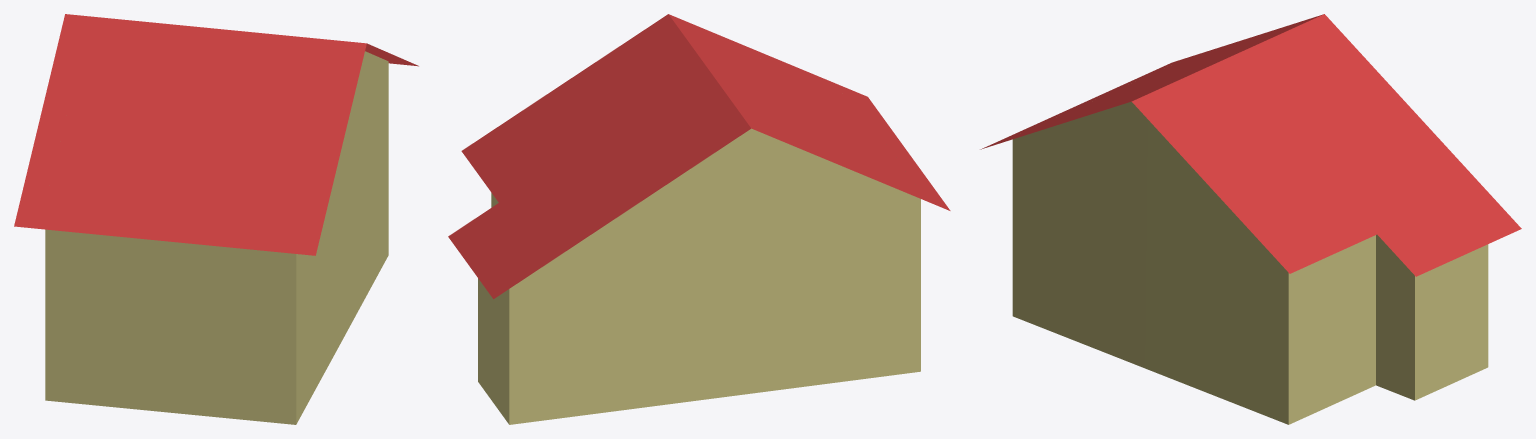
The picture shows the model from 3 angles, left to right: view 1: azimuth 30°, elevation 25°; view 2: azimuth 150°, elevation 25°; view 3: azimuth 270°, elevation 25°; orthographic projection. The views are drawn at different scales.
Bounding box in the file's own units: 15.6 × 17.04 × 9.54.
